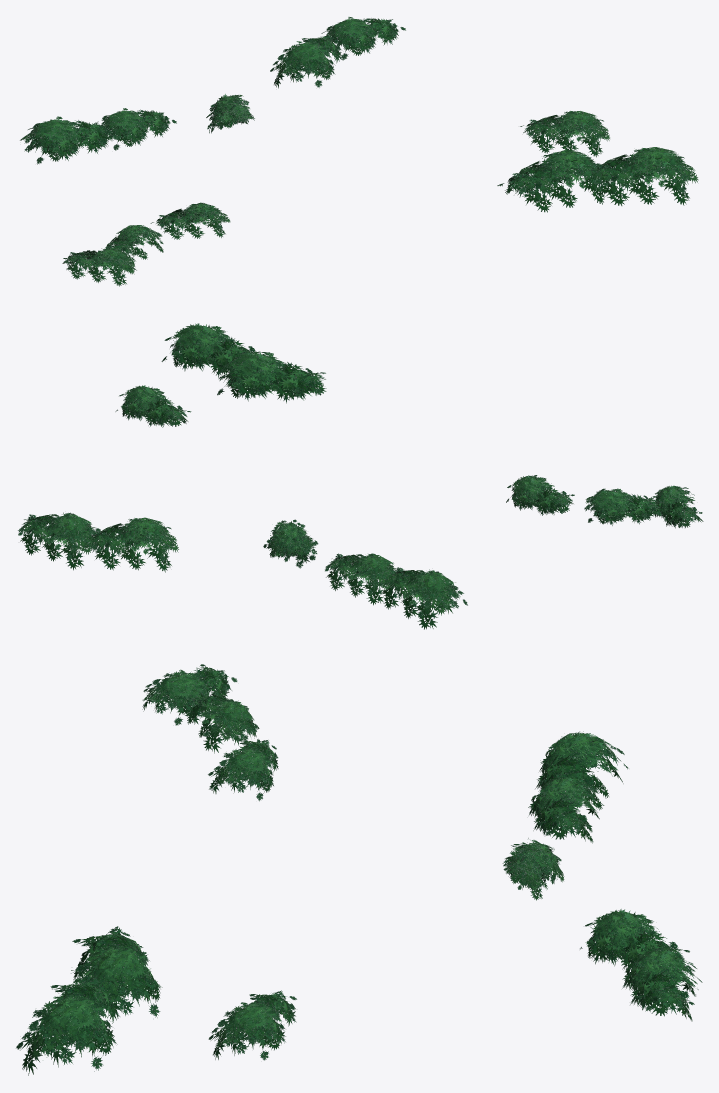
Rendered from Area_10_39.fbx.
The picture shows the model from 3 angles, top to bottom: view 1: azimuth 30°, elevation 25°; view 2: azimuth 150°, elevation 25°; view 3: azimuth 270°, elevation 25°; orthographic projection. The views are drawn at different scales.
Parts seen in each view (by area): view 1: Area_10_39; view 2: Area_10_39; view 3: Area_10_39.
Boxes of the visible parts, x1,y1,x2,y2 form: Area_10_39: (20,17,698,286); Area_10_39: (18,323,703,629); Area_10_39: (16,664,702,1075).
Size of the model in its own units: 7341 by 678 by 5535.
